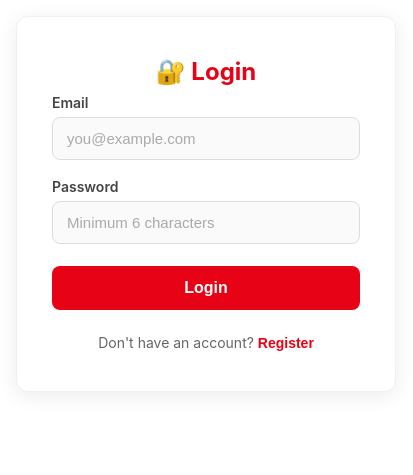
Scenario: AuthForm › Login flow › should display error message when login fails
In the field labelled "Email": (206, 138) top-left (52, 117), bottom-right (360, 160), type "test@example.com"
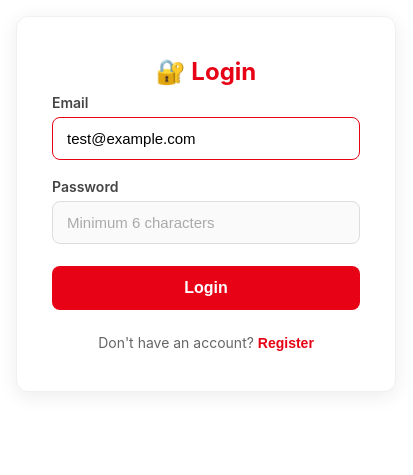
In the password field labelled "Password": (206, 222) top-left (52, 201), bottom-right (360, 244), type "wrong-password"
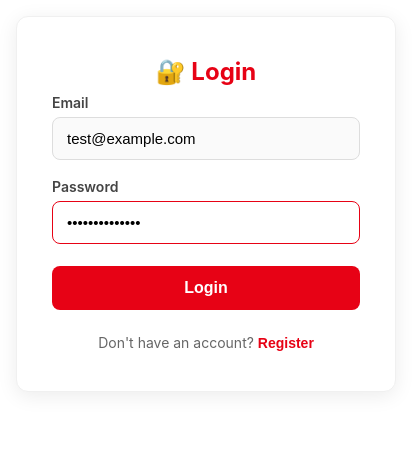
Click the button "Login": (206, 288) top-left (52, 266), bottom-right (360, 310)
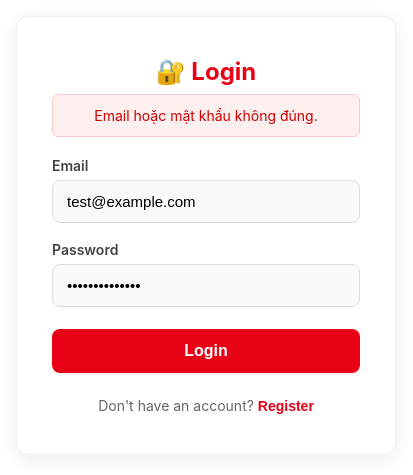
Now the text "Email hoặc mật khẩu không đúng." is shown, box top-left (52, 94), bottom-right (360, 137)
